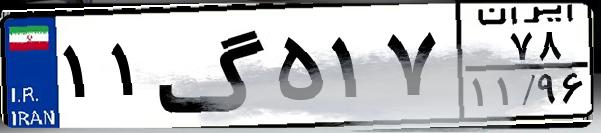1: (330, 28, 385, 110), (57, 26, 110, 100), (110, 28, 156, 98), (470, 70, 495, 125), (495, 70, 520, 125)
5: (270, 28, 330, 110)
6: (560, 70, 590, 125)
7: (385, 28, 445, 110), (508, 27, 537, 80)
8: (537, 27, 568, 80)
9: (535, 70, 560, 125)
گ: (156, 12, 270, 120)
